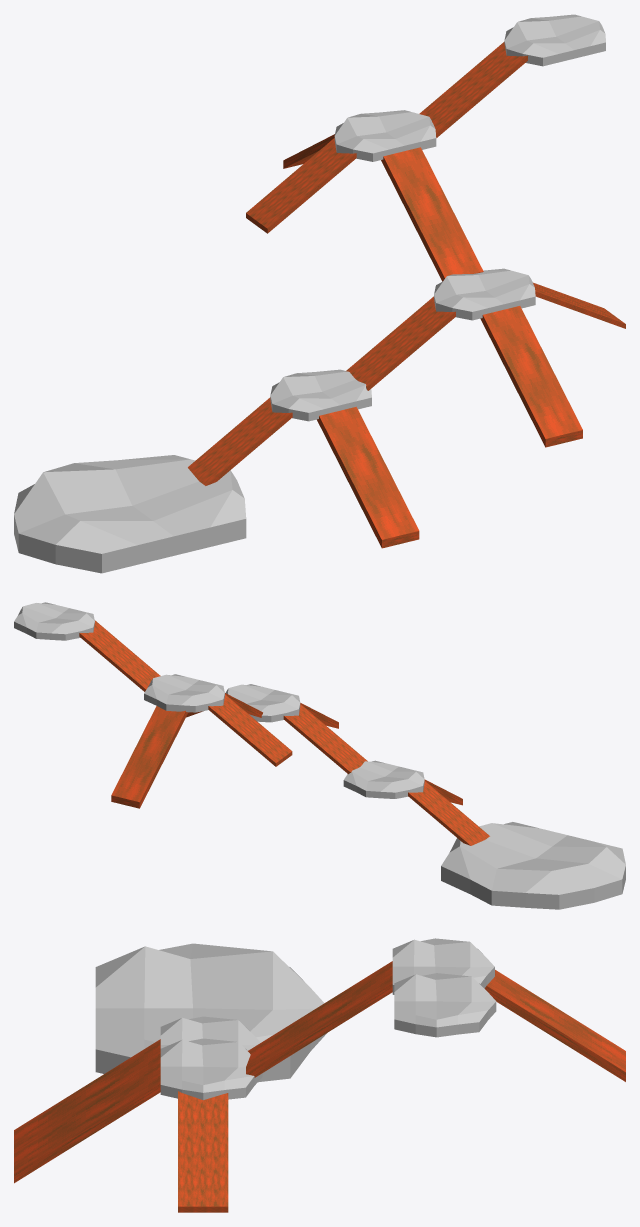
File: BitSP.obj
The picture shows the model from 3 angles, top to bottom: view 1: azimuth 30°, elevation 25°; view 2: azimuth 150°, elevation 25°; view 3: azimuth 270°, elevation 25°; orthographic projection. The views are drawn at different scales.
Visible parts, largest first — view 1: Cube.012_Cube.017, Cube.013_Cube.016, Cube.009_Cube.011, Cube.005_Cube.006, Cube, Cube.002, Cube.006_Cube.008, Cube.010_Cube.013, Cube.003, Cube.007_Cube.009, Cube.001, Cube.011_Cube.014 (+1 smaller); view 2: Cube.012_Cube.017, Cube.004_Cube.005, Cube.002, Cube, Cube.010_Cube.013, Cube.003, Cube.007_Cube.009, Cube.001, Cube.011_Cube.014, Cube.006_Cube.008; view 3: Cube.012_Cube.017, Cube.008_Cube.012, Cube, Cube.006_Cube.008, Cube.009_Cube.011, Cube.005_Cube.006, Cube.004_Cube.005, Cube.002, Cube.013_Cube.016, Cube.010_Cube.013.
Part boxes in pixels (x1,y1,x2,y2): Cube.012_Cube.017: [14, 455, 246, 573]; Cube.013_Cube.016: [317, 406, 419, 548]; Cube.009_Cube.011: [480, 306, 582, 447]; Cube.005_Cube.006: [381, 147, 483, 281]; Cube: [504, 14, 605, 66]; Cube.002: [334, 110, 436, 161]; Cube.006_Cube.008: [434, 268, 535, 320]; Cube.010_Cube.013: [270, 369, 371, 421]; Cube.003: [246, 138, 356, 233]; Cube.007_Cube.009: [346, 296, 455, 390]; Cube.001: [419, 42, 527, 137]; Cube.011_Cube.014: [188, 397, 292, 485]; Cube.012_Cube.017: [441, 822, 625, 909]; Cube.004_Cube.005: [111, 706, 188, 808]; Cube.002: [144, 674, 224, 712]; Cube: [14, 602, 94, 640]; Cube.010_Cube.013: [343, 760, 424, 798]; Cube.003: [208, 694, 292, 766]; Cube.007_Cube.009: [283, 704, 367, 774]; Cube.001: [79, 620, 160, 691]; Cube.011_Cube.014: [408, 781, 489, 845]; Cube.006_Cube.008: [225, 684, 300, 722]; Cube.012_Cube.017: [95, 943, 326, 1082]; Cube.008_Cube.012: [178, 1091, 228, 1212]; Cube: [394, 973, 496, 1037]; Cube.006_Cube.008: [160, 1038, 262, 1100]; Cube.009_Cube.011: [14, 1061, 160, 1183]; Cube.005_Cube.006: [246, 961, 392, 1077]; Cube.004_Cube.005: [484, 970, 625, 1081]; Cube.002: [392, 938, 494, 994]; Cube.013_Cube.016: [14, 1039, 160, 1151]; Cube.010_Cube.013: [160, 1016, 260, 1050].
Bounding box in the file's own units: 36.69 × 15.39 × 24.23.
